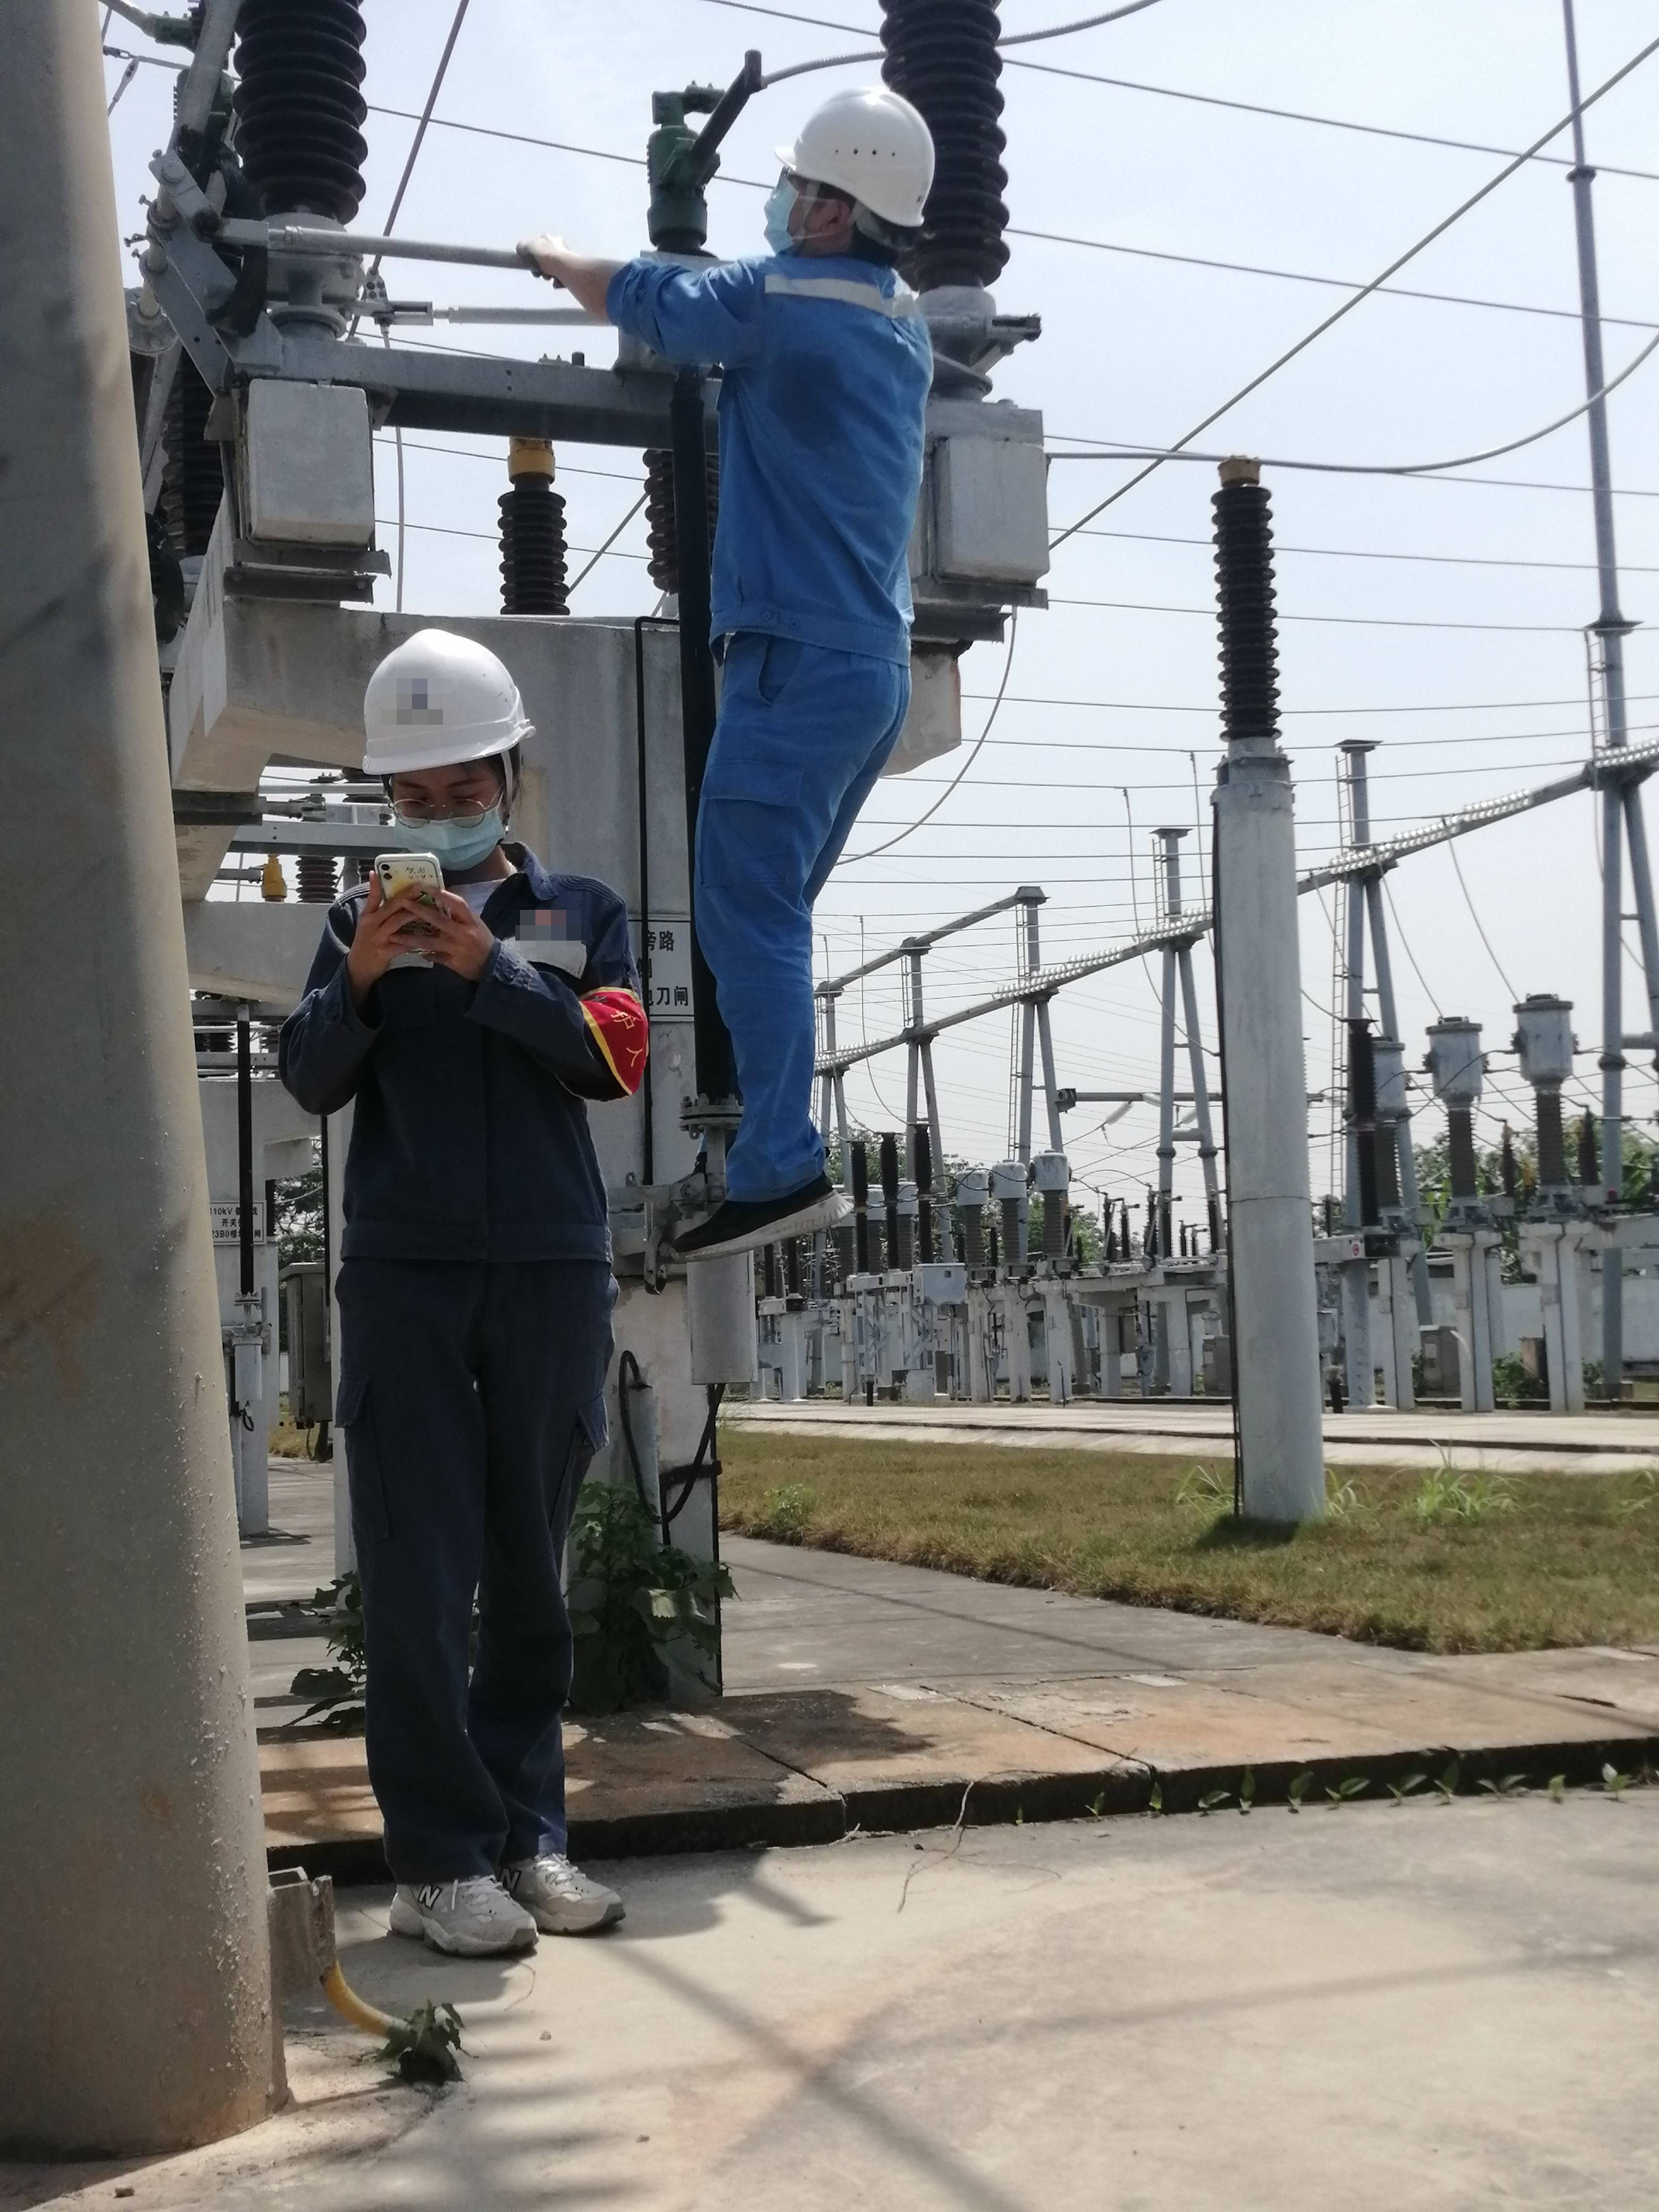downsuit: (336, 1278, 619, 1865), (697, 669, 904, 1186)
upsuit: (272, 845, 648, 1254), (615, 247, 943, 648)
wrongtop: (516, 230, 645, 331)
